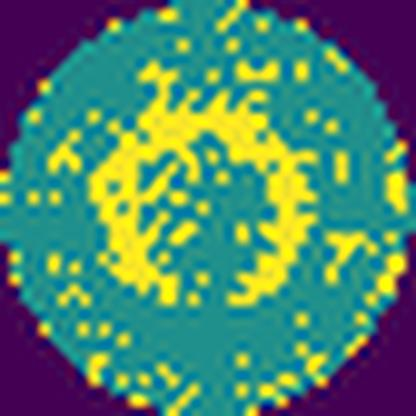Donut: (86, 71, 325, 318)
